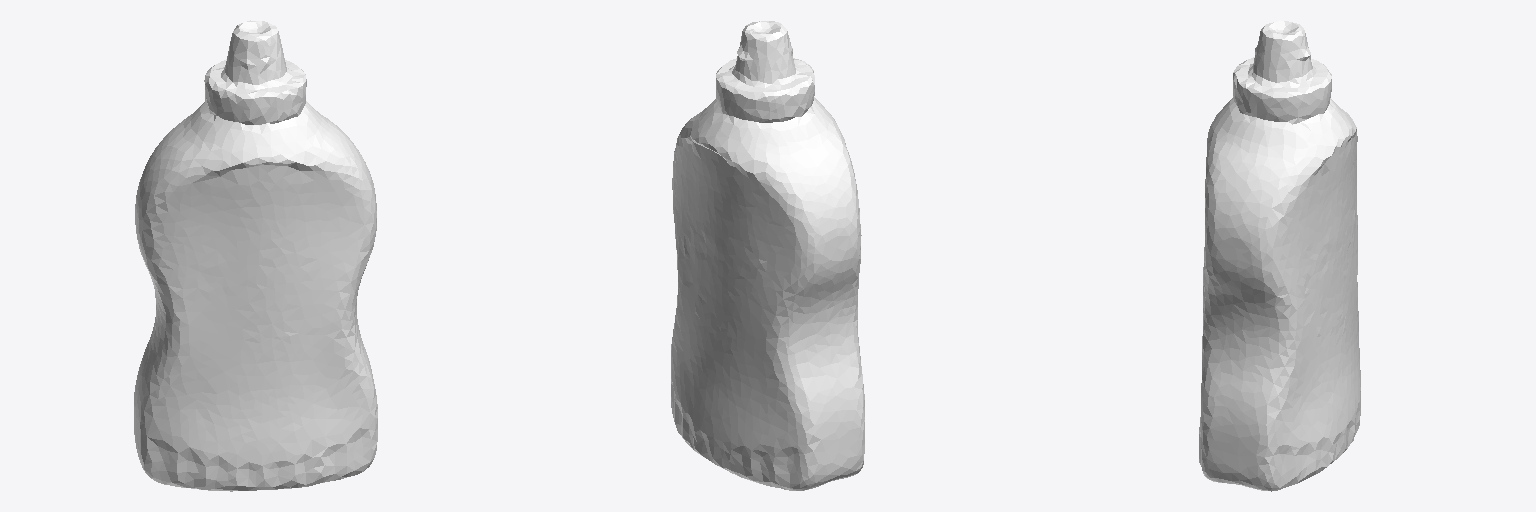
robot.urdf — Tomato_soup_can:
<?xml version="1.0" ?>
<robot name="Tomato_soup_can">
  <link name="Link">

    <inertial>
      <origin rpy="0 0 0" xyz="-0.009342 0.084226 0.050017"/>
       <mass value="1"/>

       <inertia ixx="0.00000031962" ixy="-0.00000000014" ixz="-0.00000000076"
                iyy="0.00000032212" iyz="0.00000000034"
                izz="0.00000017528"/>
    </inertial>
    <visual>
      <origin rpy="0 0 0" xyz="0 0 0"/>
      <geometry>
            <mesh filename="textured2.obj" scale="1 1 1"/>
      </geometry>
        <material name="framemat0">
        <color rgba="1 1 1 1"/>
      </material>
    </visual>

    <collision>
      <geometry>
	 	 <mesh filename="textured2.obj" scale="1 1 1"/>
      </geometry>
    </collision>
  </link>
</robot>

--- Facts derived from the render (not from the file) ---
3 views of the same robot in one strip: view 1: azimuth 30°, elevation 25°; view 2: azimuth 150°, elevation 25°; view 3: azimuth 270°, elevation 25° (orthographic).
Model Tomato_soup_can with 1 links and 0 joints (none), rooted at Link, posed every joint at zero.
Links seen in each view (by area): view 1: Link; view 2: Link; view 3: Link.
Boxes of the visible links, x1,y1,x2,y2 form: Link: [134, 20, 377, 491]; Link: [671, 21, 864, 490]; Link: [1199, 21, 1360, 491].
Bounding box of the posed robot: 0.0972 × 0.0667 × 0.1915 m (x, y, z).
1 mesh visuals loaded from 1 distinct referenced files (1 OBJ).